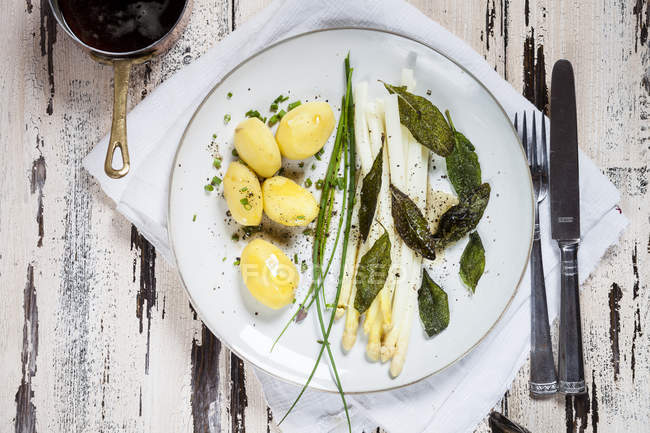boiled potatoes: (233, 113, 293, 303)
